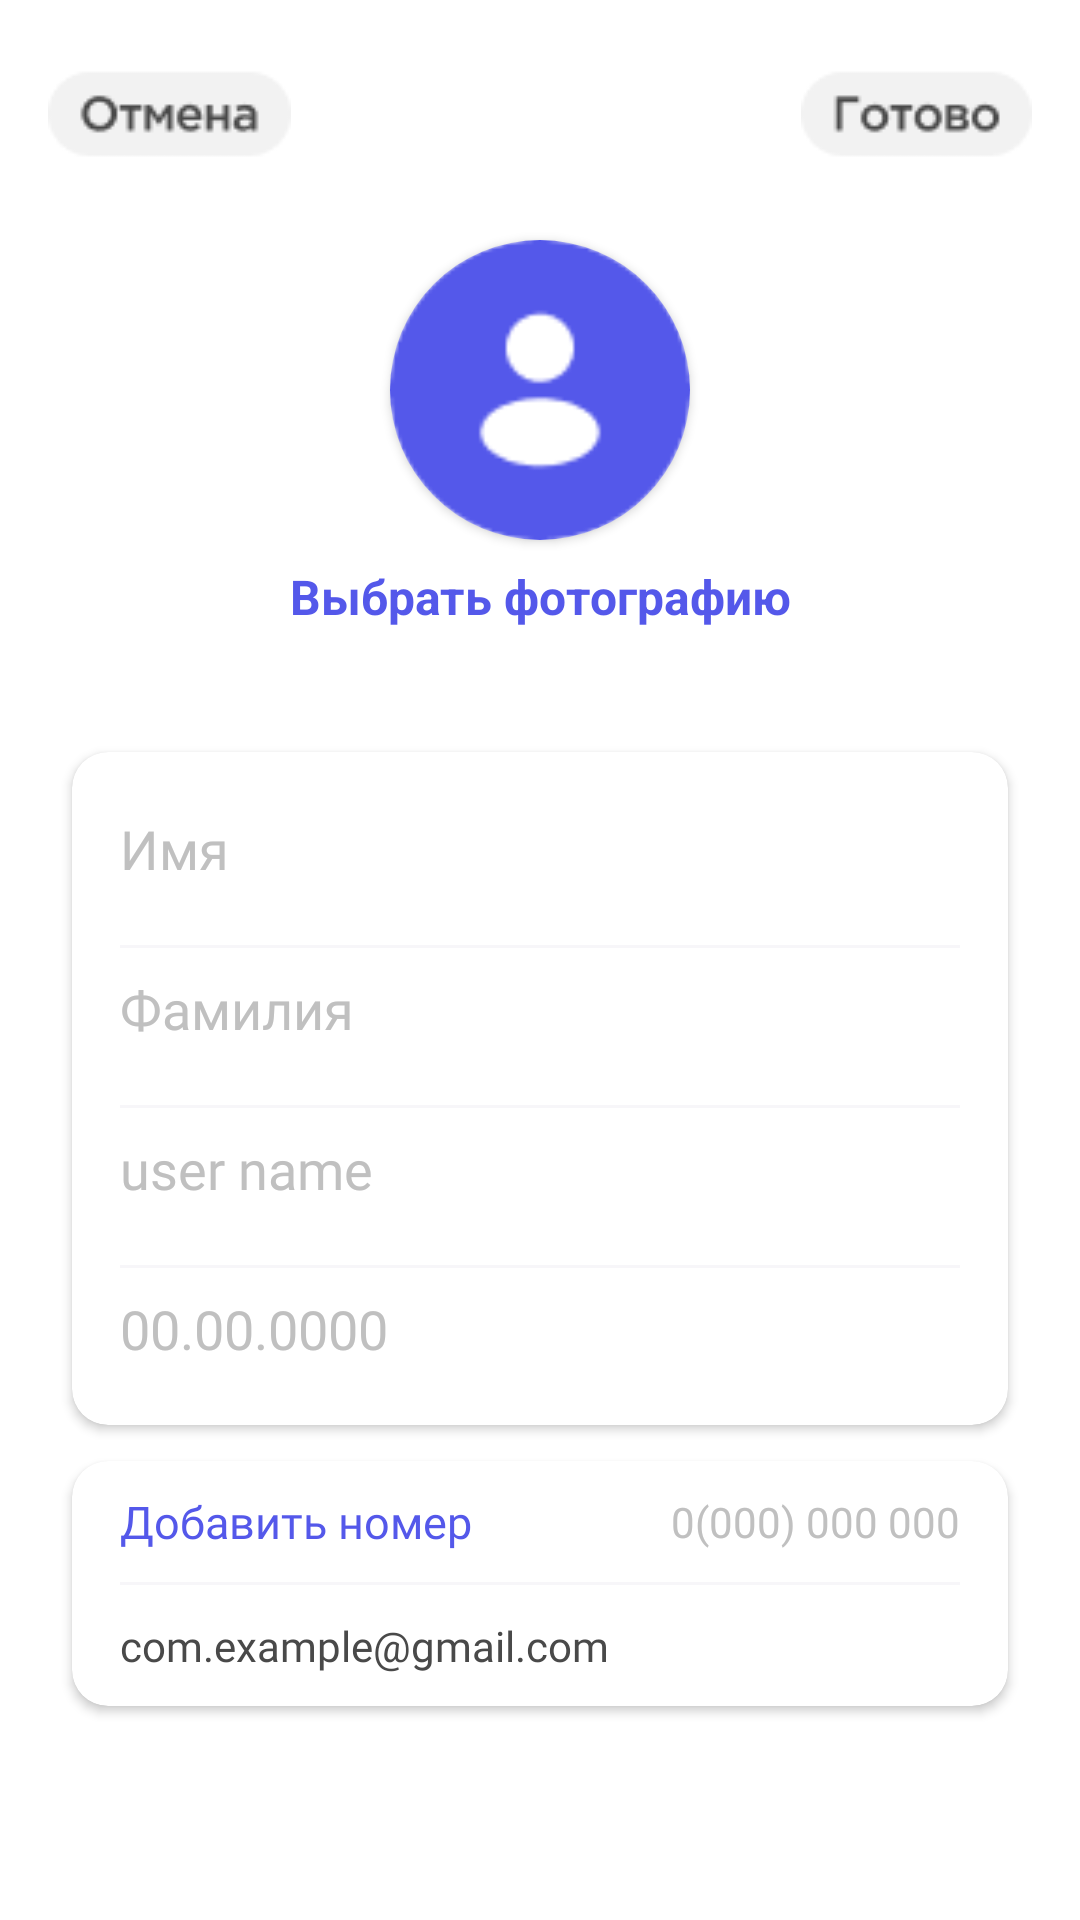

Where to tap for icons on this 1080px×1920px app screen, as [x,y]:
profile: [540,390]
